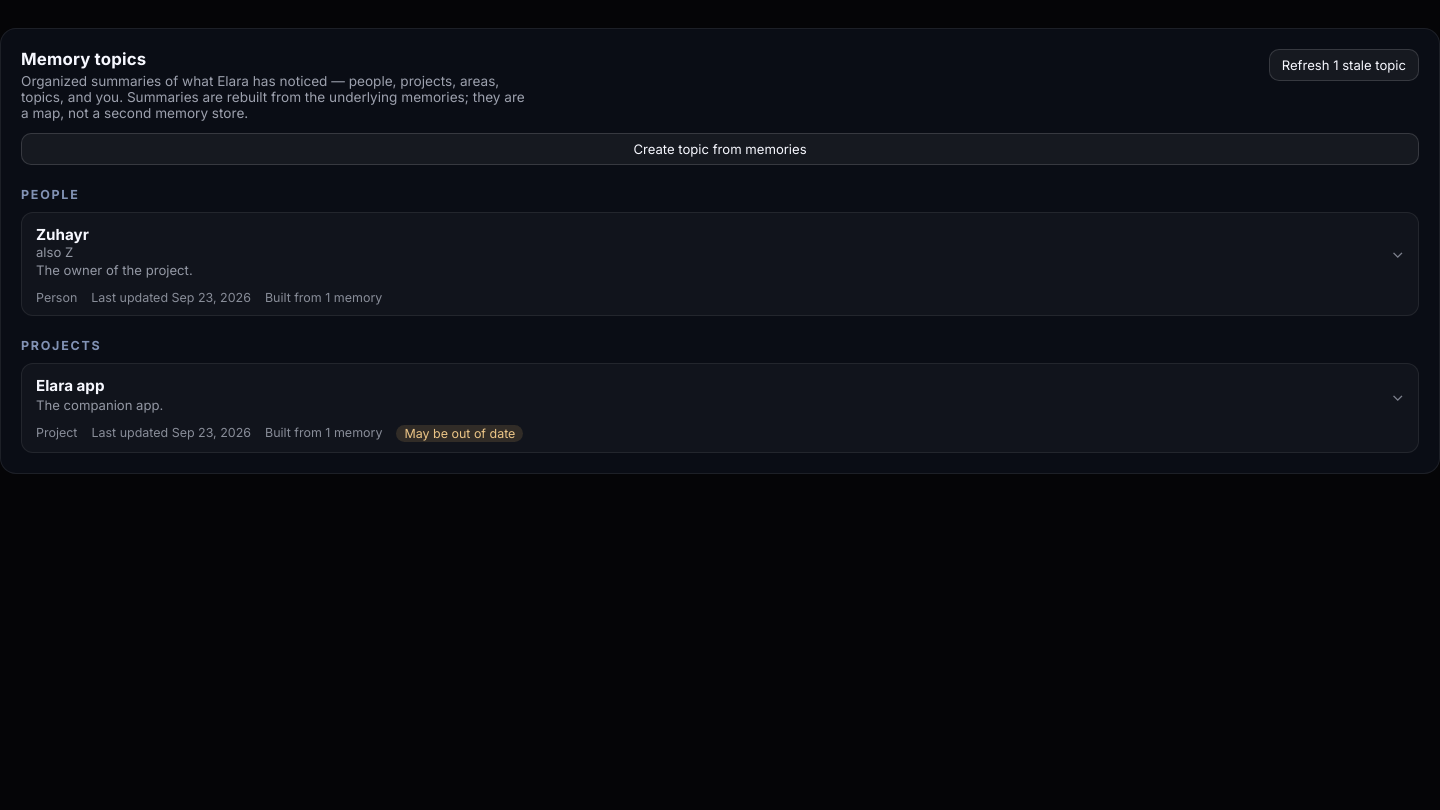
Scenario: SemanticMemoryFiles (memory topics surface) › groups summary files by concept and exposes provenance at a glance
Click the button with class "semantic-files__card-summary" that starts with "Zuhayr" at (62, 234), box [22,213,1418,290]
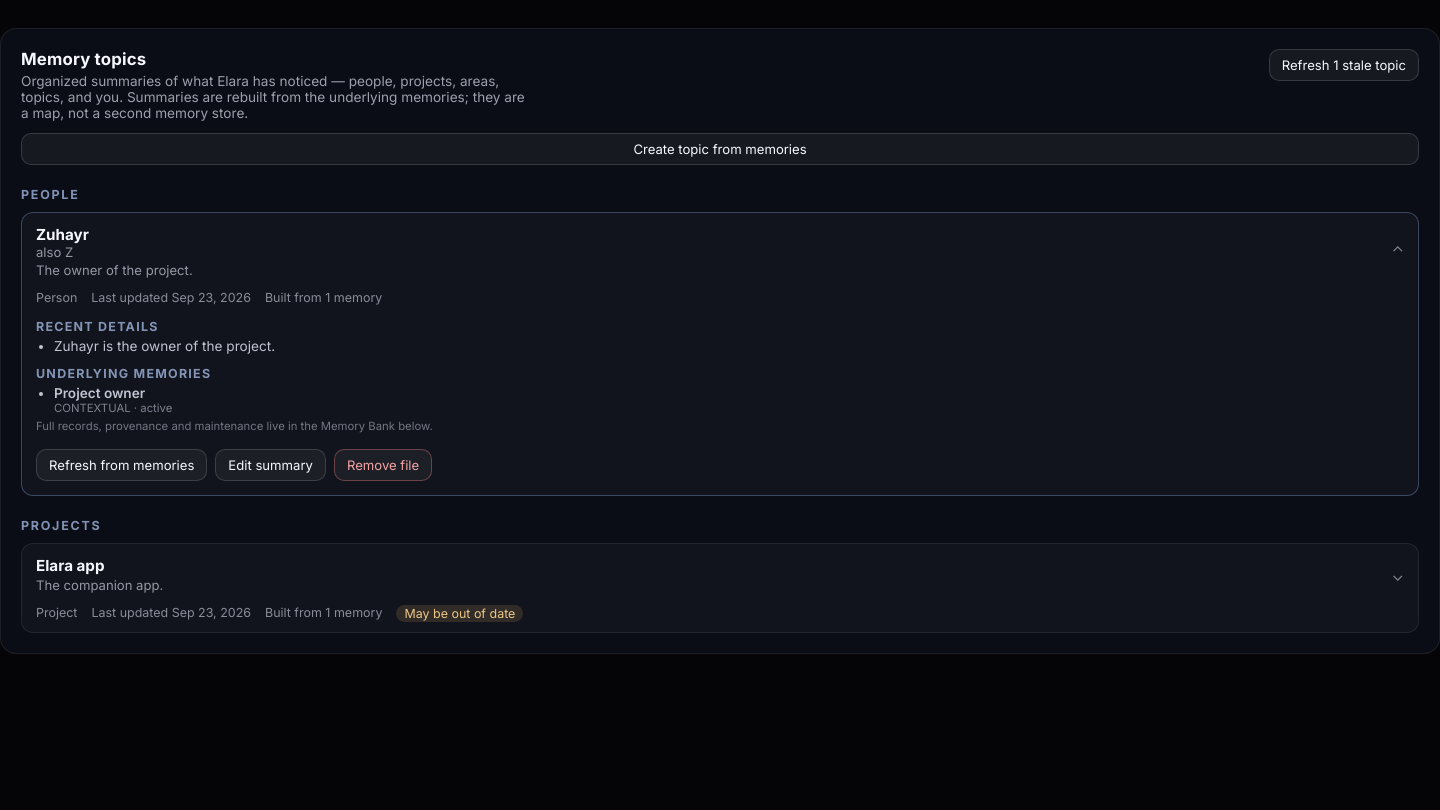
Result: the text "Project owner" is shown at [54,385,145,401]
Result: the text "Recent details" is shown at [36,319,159,334]
Result: the text "Memory Bank below" is shown at [36,419,433,433]
